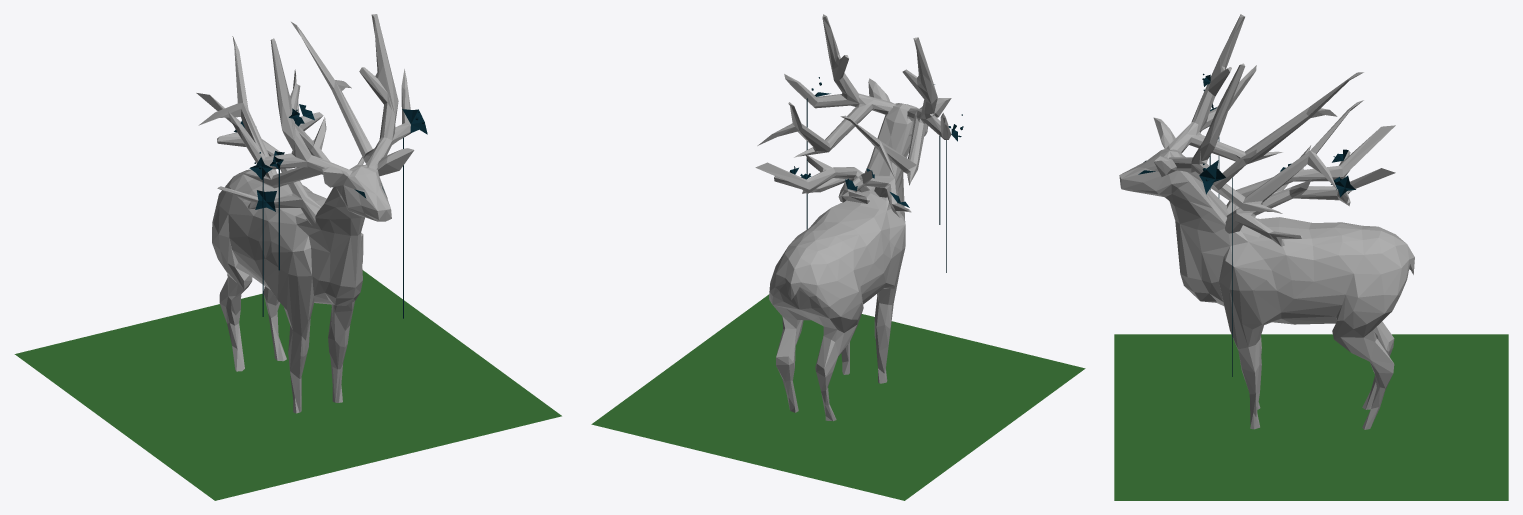
The model's file is CH_MythicalMoose01.fbx.
The picture shows the model from 3 angles, left to right: view 1: azimuth 30°, elevation 25°; view 2: azimuth 150°, elevation 25°; view 3: azimuth 270°, elevation 25°; orthographic projection. The views are drawn at different scales.
Visible parts, largest first — view 1: UnderDeerMoose, MythicalMooseDeerBody, MythicalMooseDeerHorns, MythicalMooseFlowers; view 2: UnderDeerMoose, MythicalMooseDeerBody, MythicalMooseDeerHorns, MythicalMooseFlowers; view 3: UnderDeerMoose, MythicalMooseDeerBody, MythicalMooseDeerHorns, MythicalMooseFlowers.
Part boxes in pixels (box(x1,y1,x2,y2)): UnderDeerMoose: box(14, 270, 561, 500); MythicalMooseDeerBody: box(212, 148, 414, 413); MythicalMooseDeerHorns: box(196, 14, 410, 226); MythicalMooseFlowers: box(234, 104, 427, 318); UnderDeerMoose: box(591, 294, 1085, 500); MythicalMooseDeerBody: box(769, 78, 951, 421); MythicalMooseDeerHorns: box(755, 14, 951, 217); MythicalMooseFlowers: box(789, 77, 963, 272); UnderDeerMoose: box(1114, 334, 1508, 500); MythicalMooseDeerBody: box(1119, 117, 1414, 429); MythicalMooseDeerHorns: box(1166, 14, 1395, 246); MythicalMooseFlowers: box(1199, 73, 1355, 376).
Size of the model in its own units: 245 by 261 by 245.
